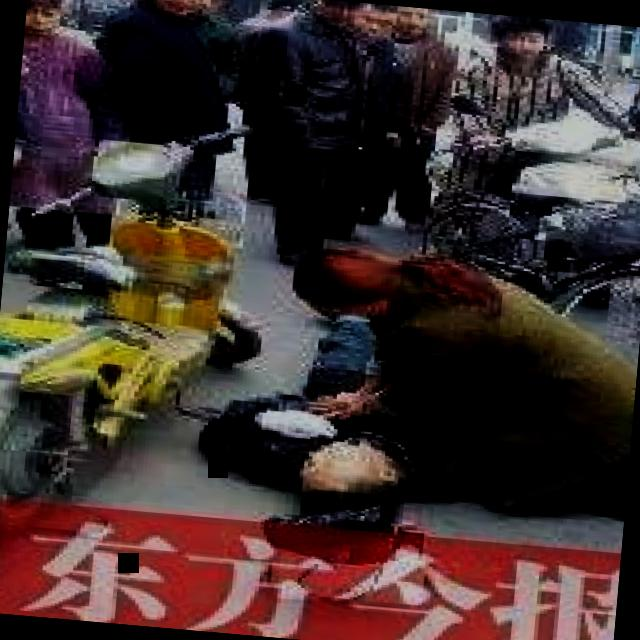Fall-Detected: (171, 326, 440, 520)
